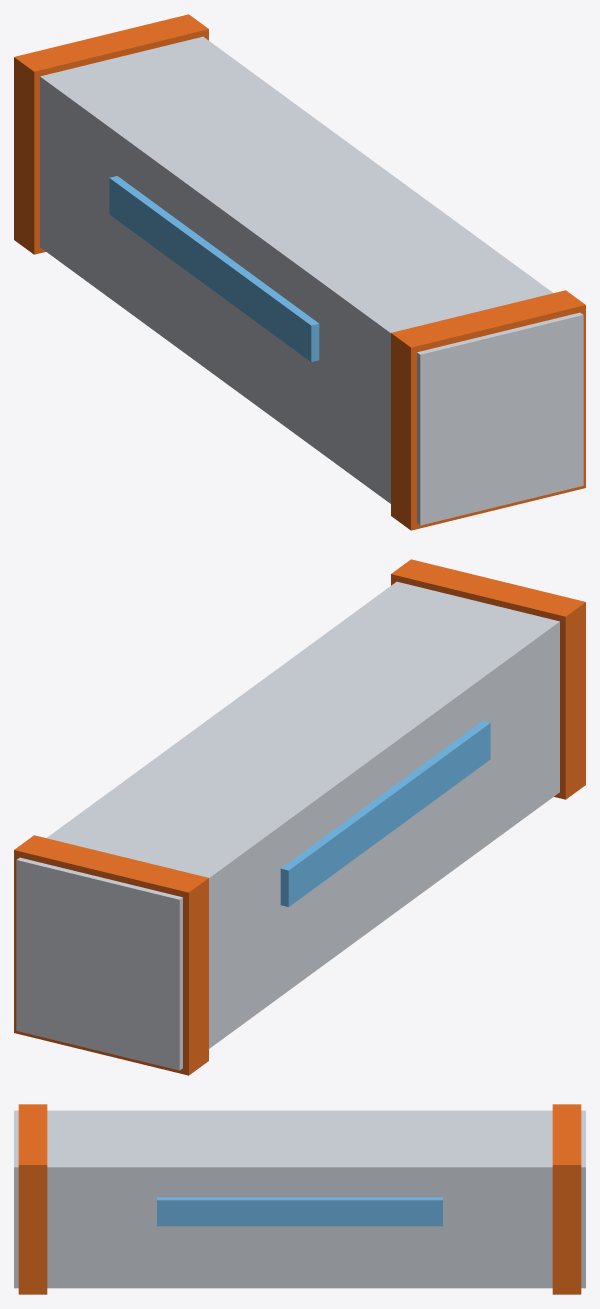
The model's file is colony-hab-corridor.glb.
The picture shows the model from 3 angles, top to bottom: view 1: azimuth 30°, elevation 25°; view 2: azimuth 150°, elevation 25°; view 3: azimuth 270°, elevation 25°; orthographic projection. The views are drawn at different scales.
Visible parts, largest first — view 1: hab_corridor; view 2: hab_corridor; view 3: hab_corridor.
Boxes of the visible parts, left/top/right/bottom form: hab_corridor: left=14, top=14, right=585, bottom=530; hab_corridor: left=14, top=559, right=585, bottom=1075; hab_corridor: left=14, top=1104, right=585, bottom=1294.
Size of the model in its own units: 1.54 by 1.5 by 6.
